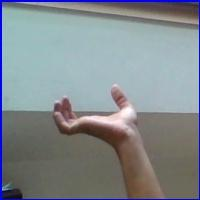B: (45, 80, 148, 152)
